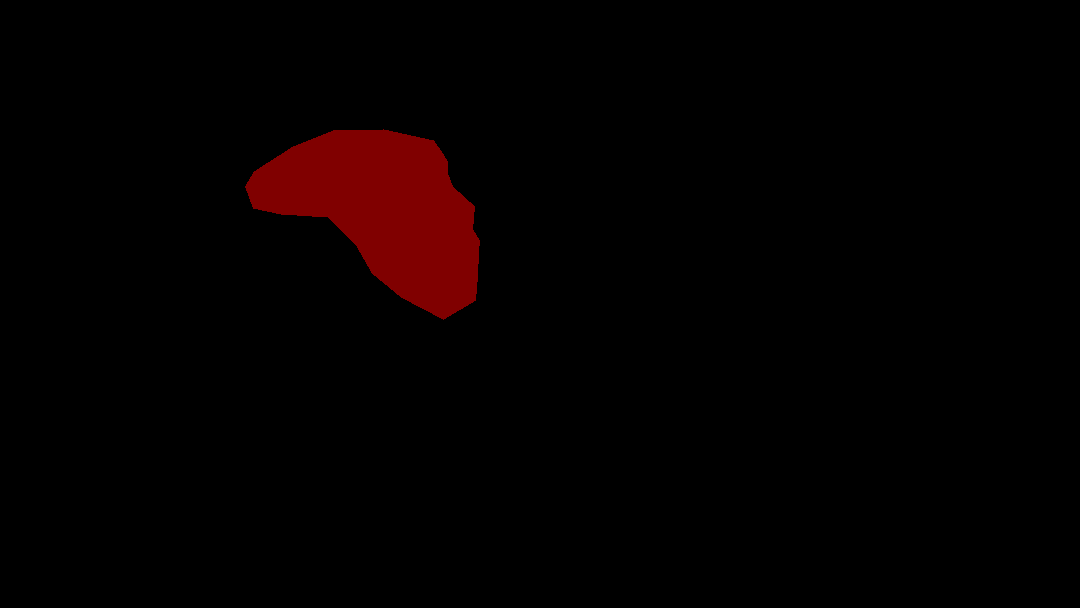fire: (245, 129, 479, 319)
